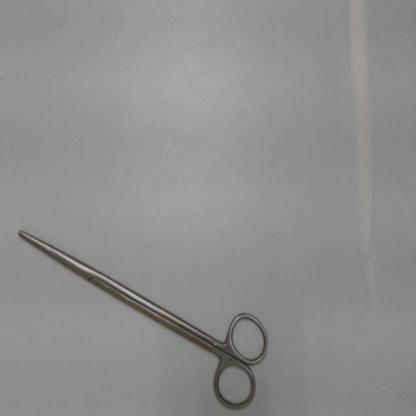9 Metzenbaum Scissors: (14, 224, 274, 414)
